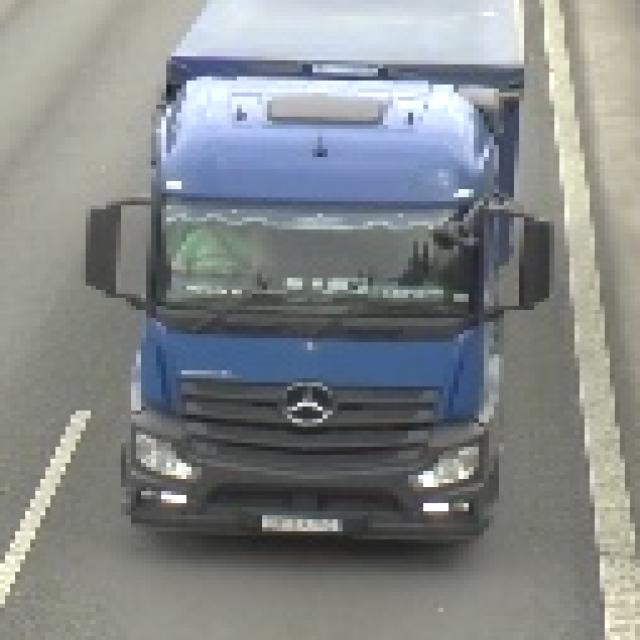TRUCK: (80, 1, 544, 547)
